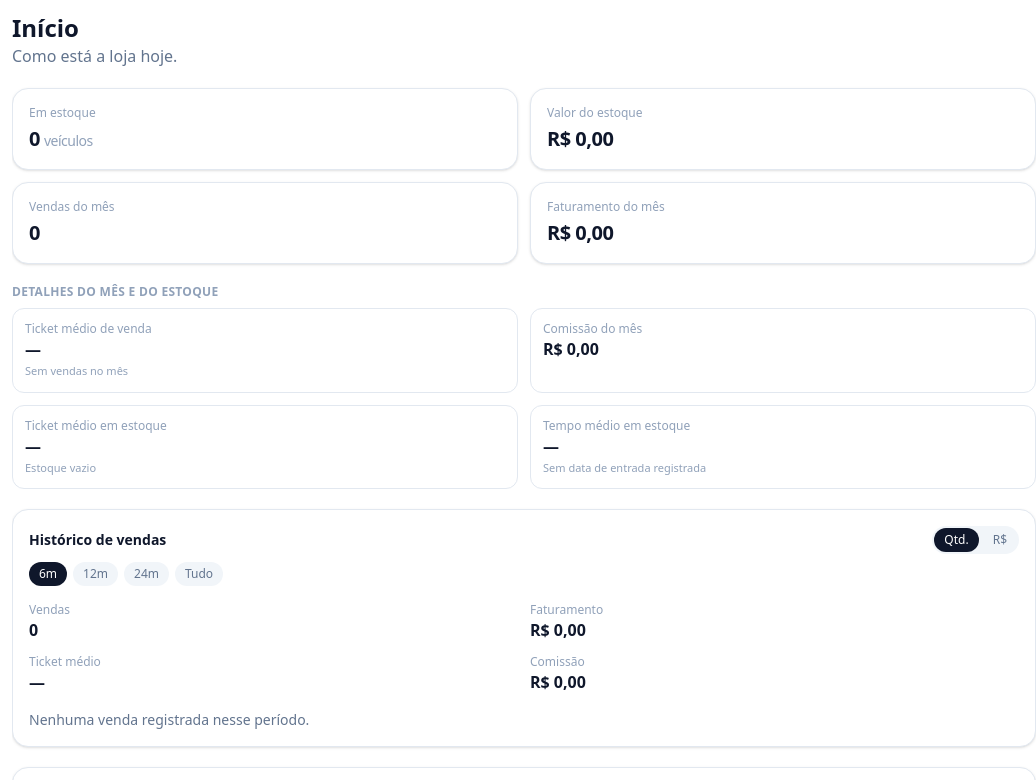
Scenario: HomePage › shows a distinct empty state for "Tudo" when there has never been a sale
Click the button "Tudo": (199, 574) top-left (175, 562), bottom-right (223, 586)
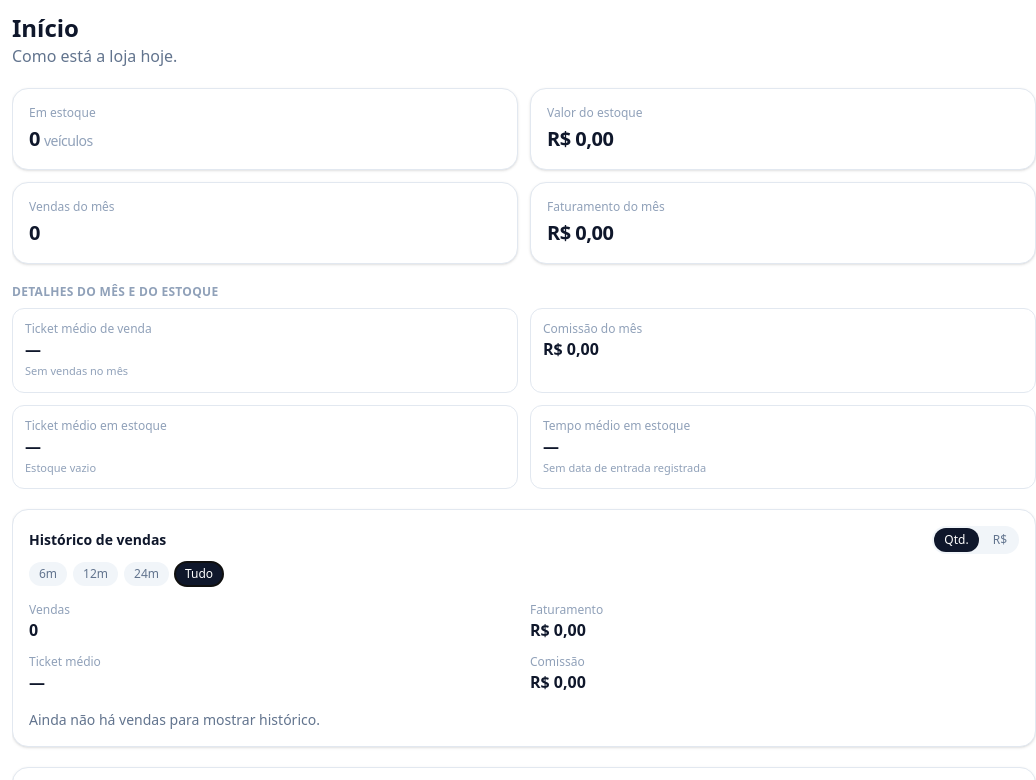
Check: the text "Ainda não há vendas para mostrar histórico." is shown, box top-left (29, 710), bottom-right (320, 729)
